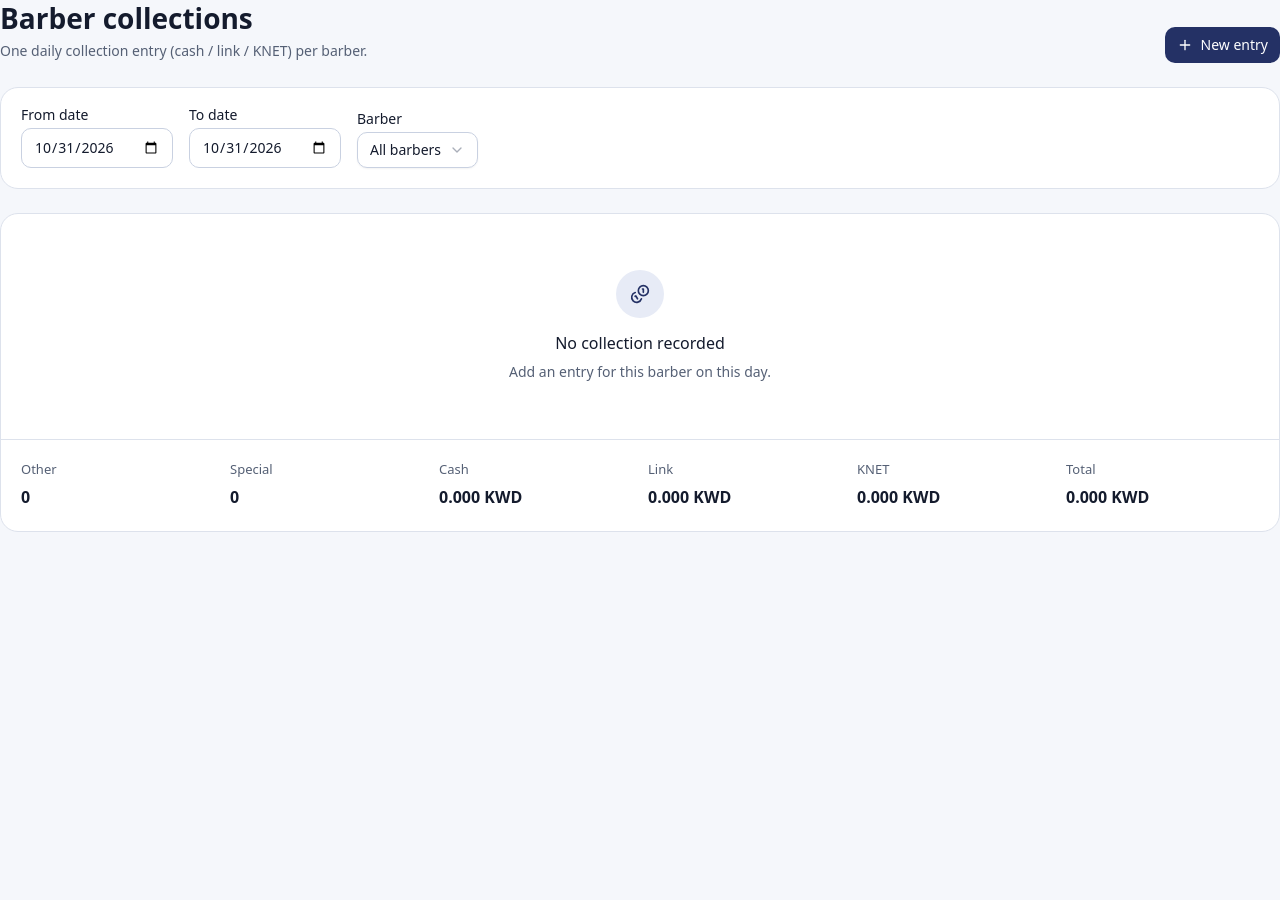
it: preserves cash entered while completed visits are still loading
Click the button "New entry" at (1222, 45), box [1165, 27, 1279, 63]
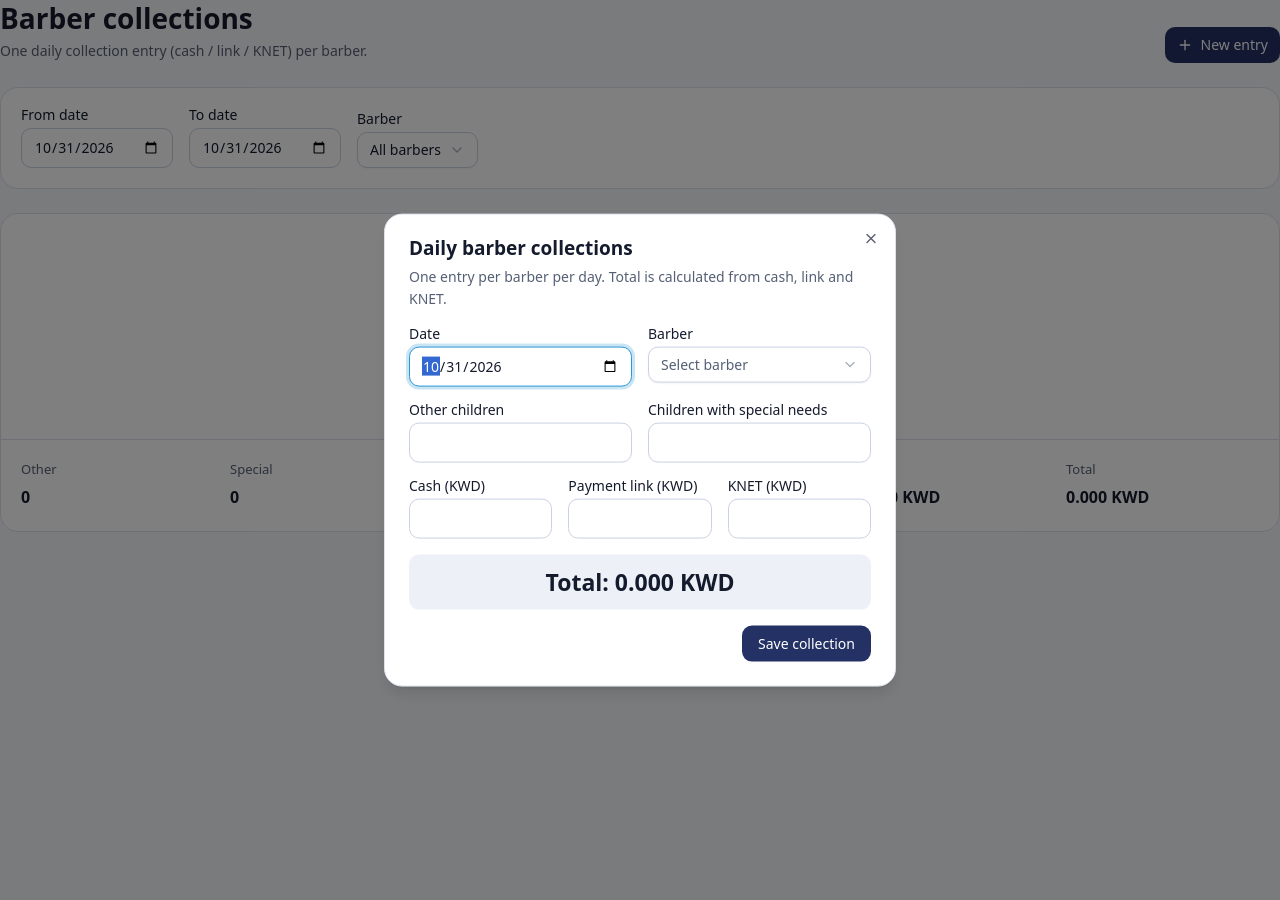
Click the dropdown at (760, 364), box [648, 346, 871, 382]
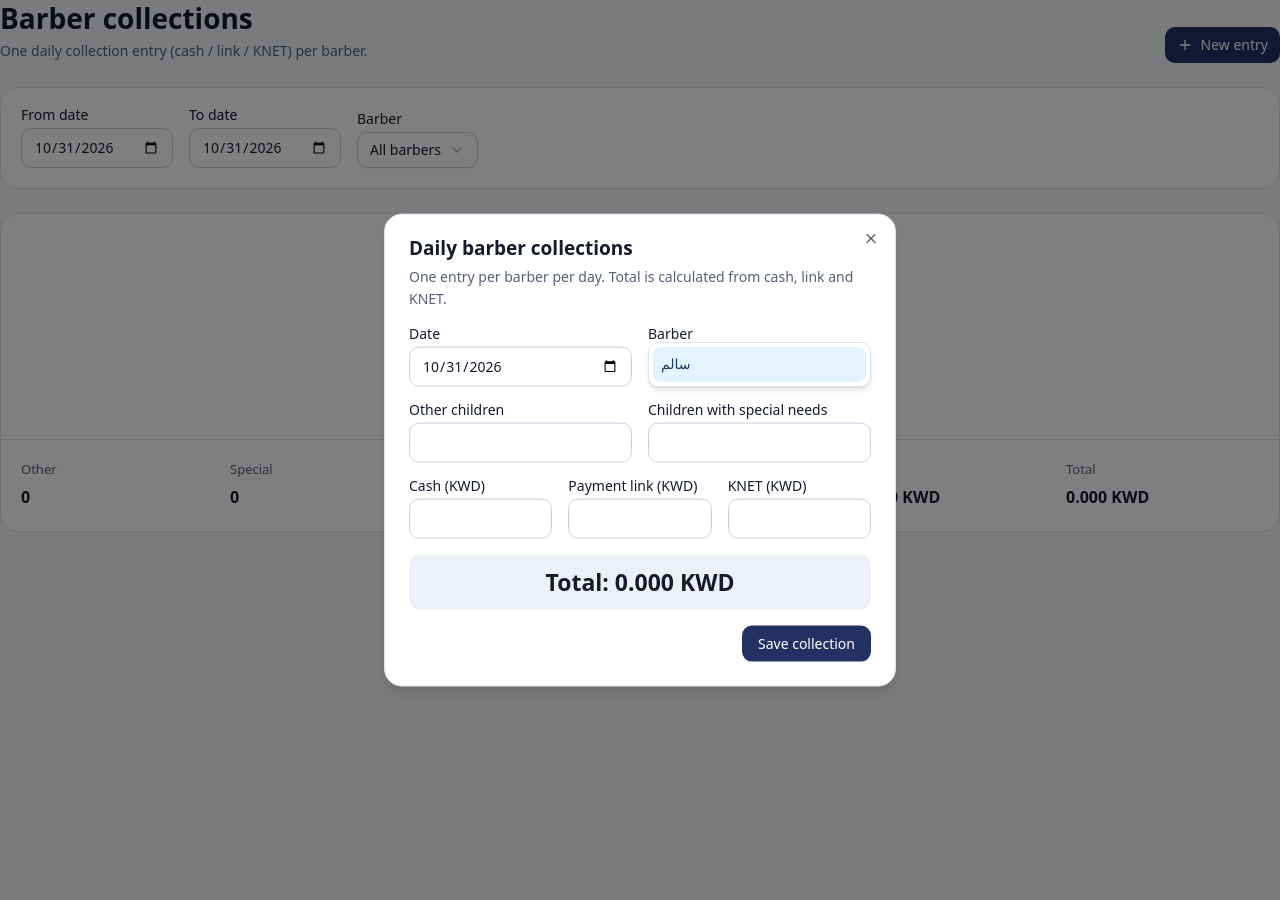
Click the option "سالم" at (760, 365), box [653, 347, 866, 382]
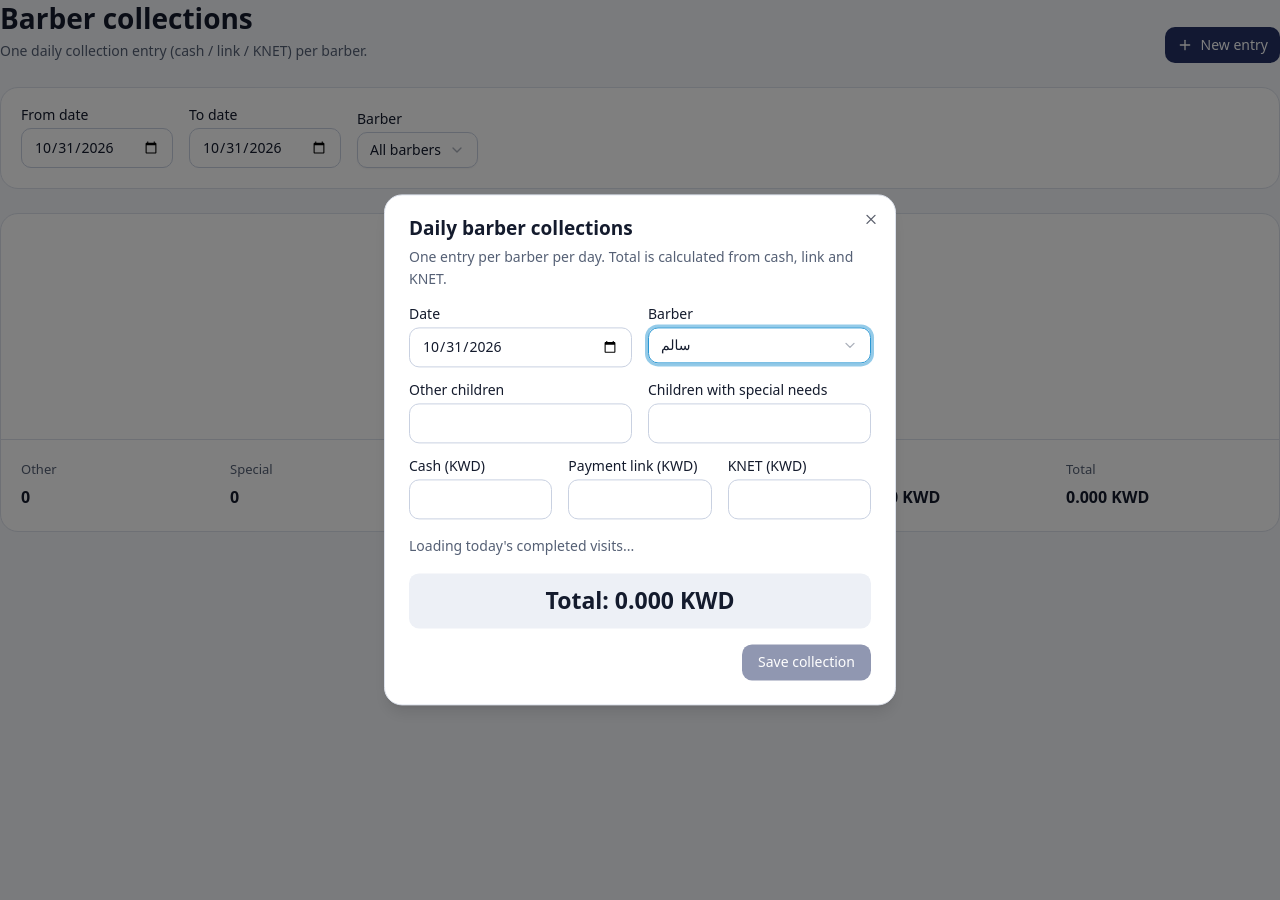
Type "9.000" into the field labelled "Cash (KWD)" at (481, 499), box [409, 479, 552, 519]
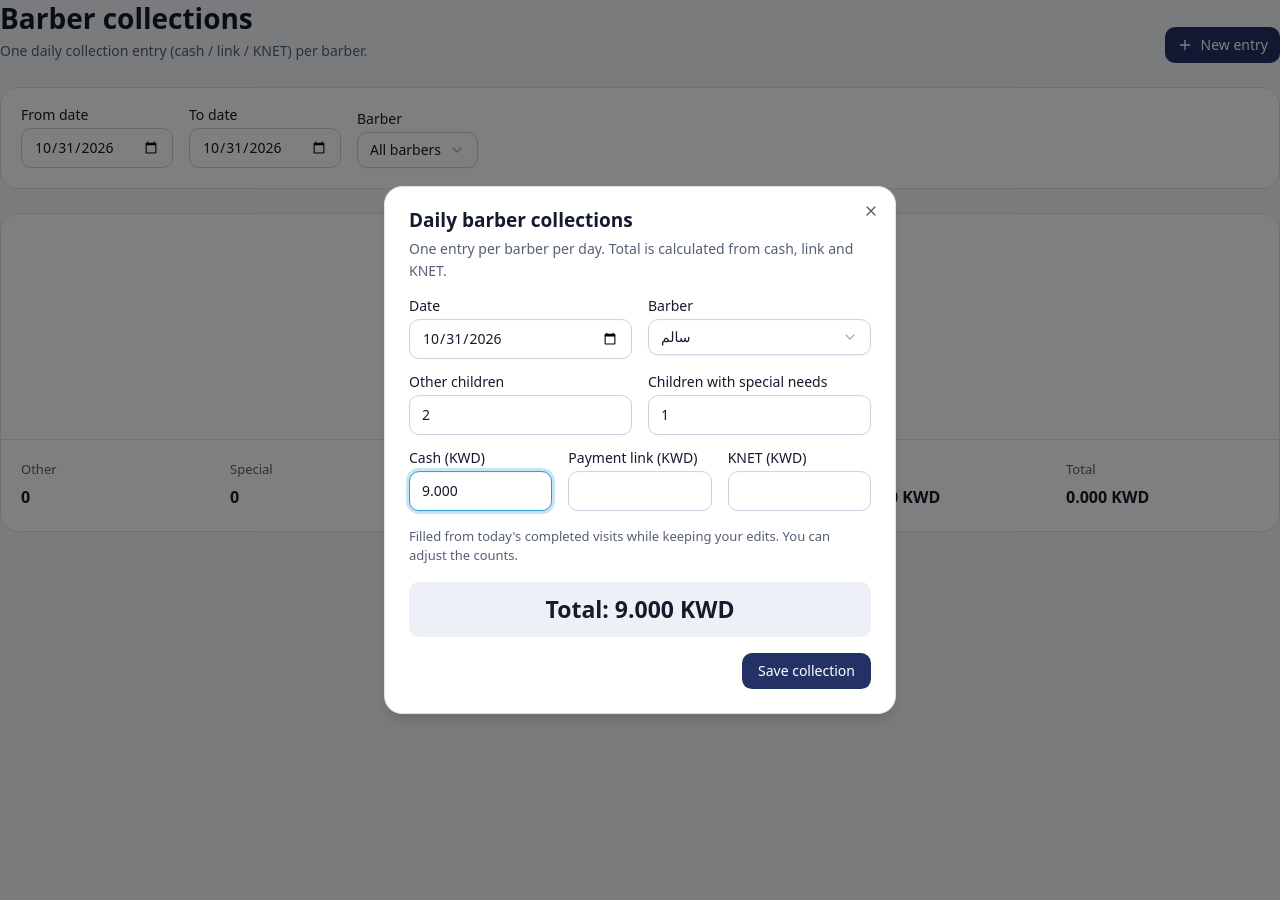
Expected: the number field labelled "Other children" holds "2", [409, 395, 632, 435]
